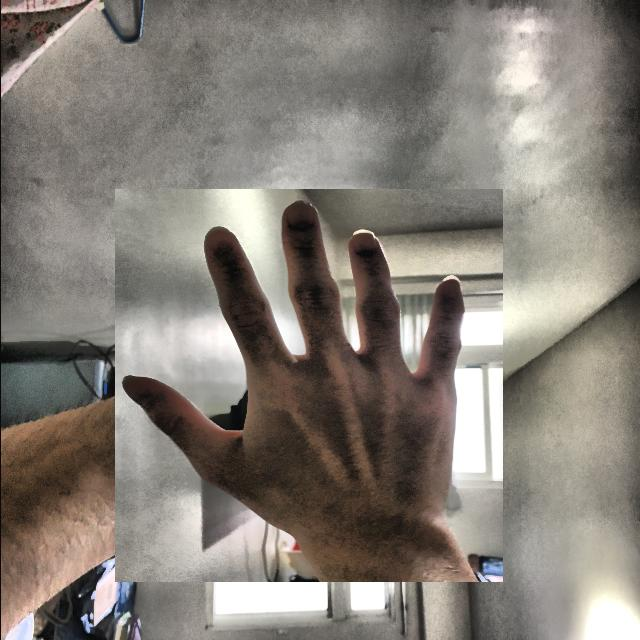not-gloved: (113, 190, 504, 581)
